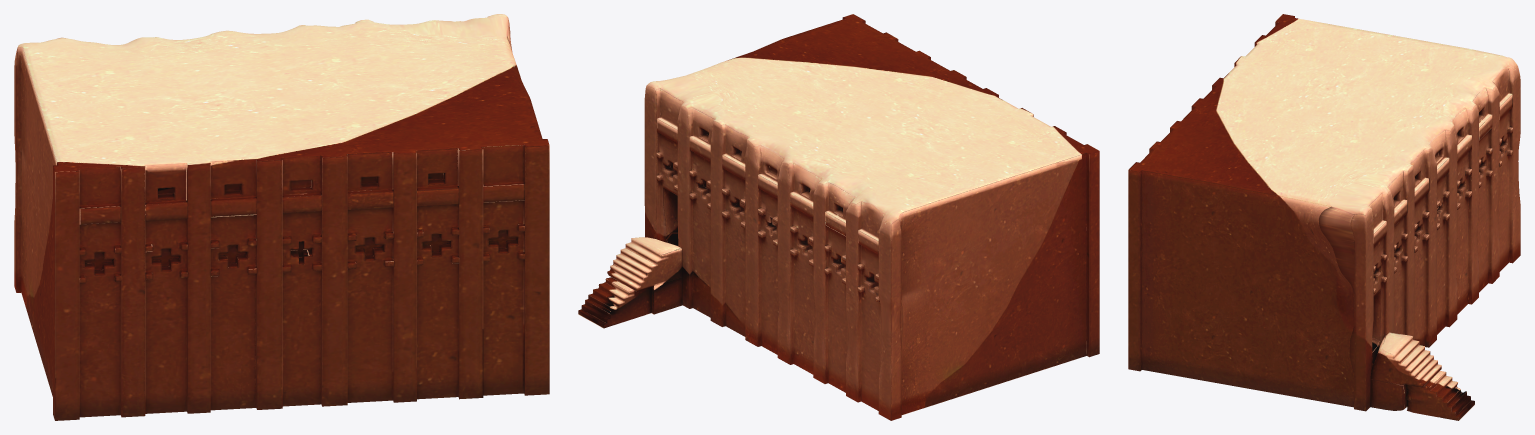
3 views of the same model, side by side, from view 1: azimuth 30°, elevation 25°; view 2: azimuth 150°, elevation 25°; view 3: azimuth 270°, elevation 25° (orthographic). The views are drawn at different scales.
Parts seen in each view (by area): view 1: 3; view 2: 3; view 3: 3.
Boxes of the visible parts, box(x1,y1,x2,y2) form: 3: box(14, 14, 549, 420); 3: box(578, 14, 1099, 420); 3: box(1128, 14, 1520, 420).
Bounding box in the file's own units: 0.225 × 0.1012 × 0.1801.
1 material, 1 textured.
